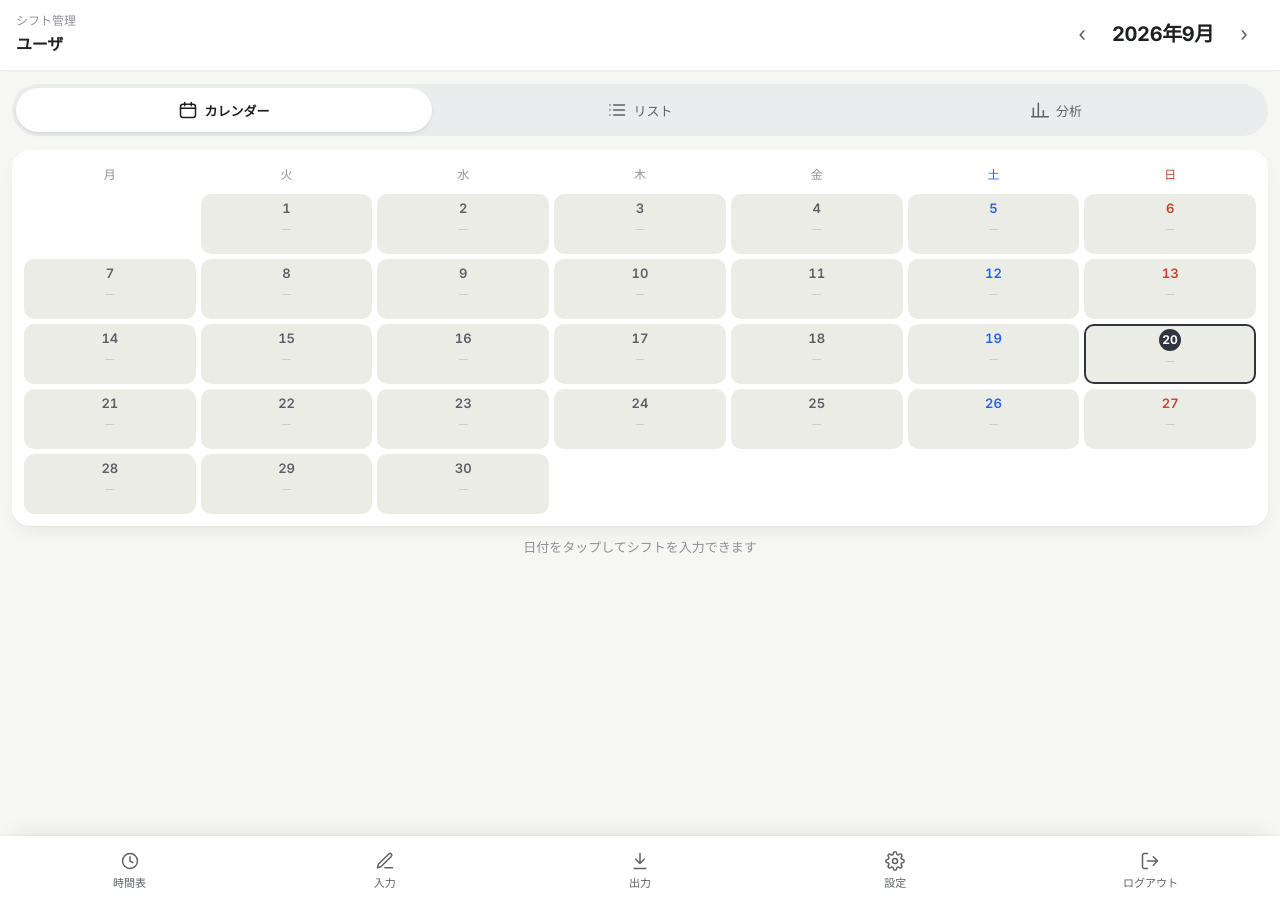
it: App コンポーネント › ポップアップ外をクリックすると閉じる
Click the text "1" at (286, 209), box [282,199,291,218]
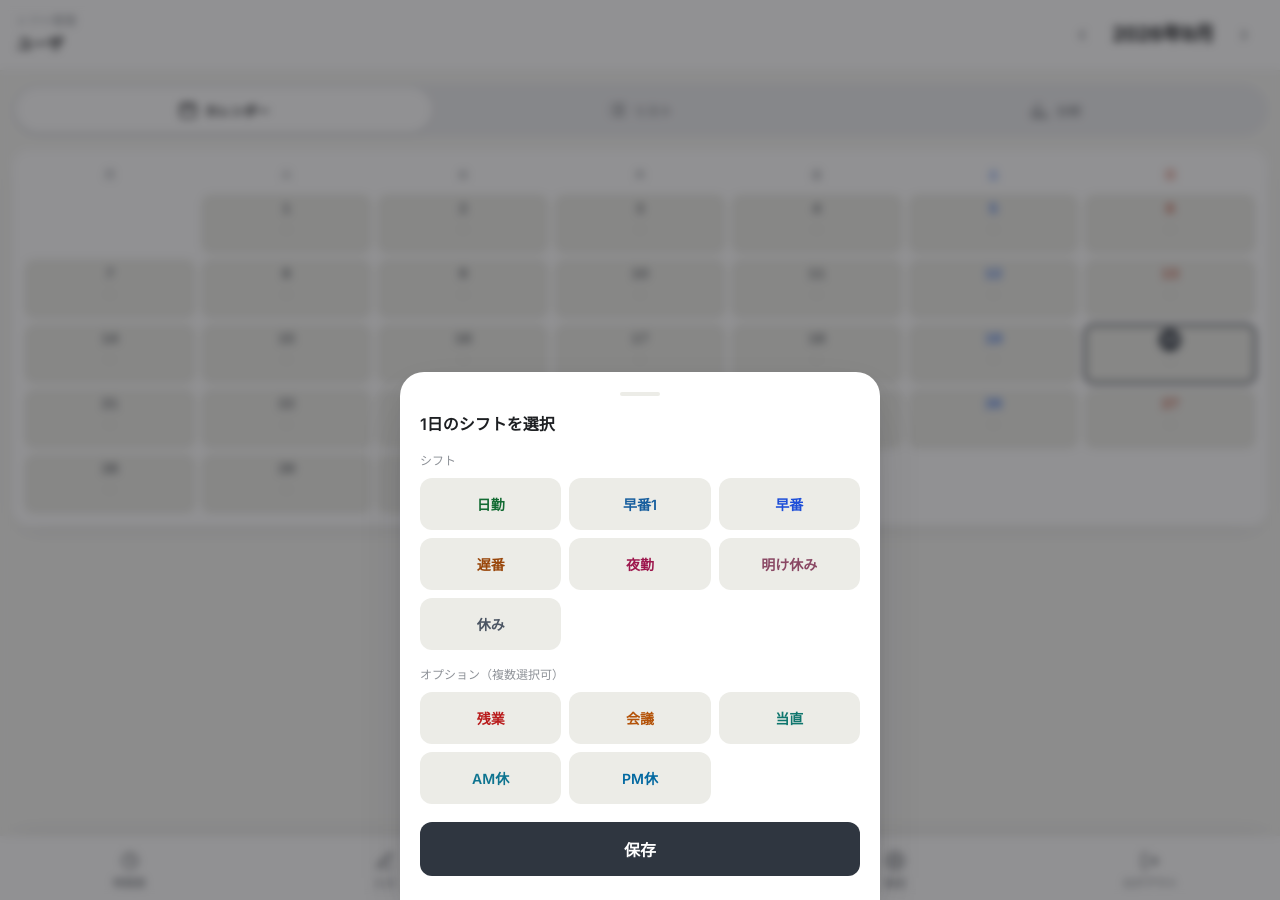
Now the text "1日のシフトを選択" is shown, box [420,414,555,434]
Click the element with test id "shift-picker-overlay" at (77, 450), box [0,0,1279,899]
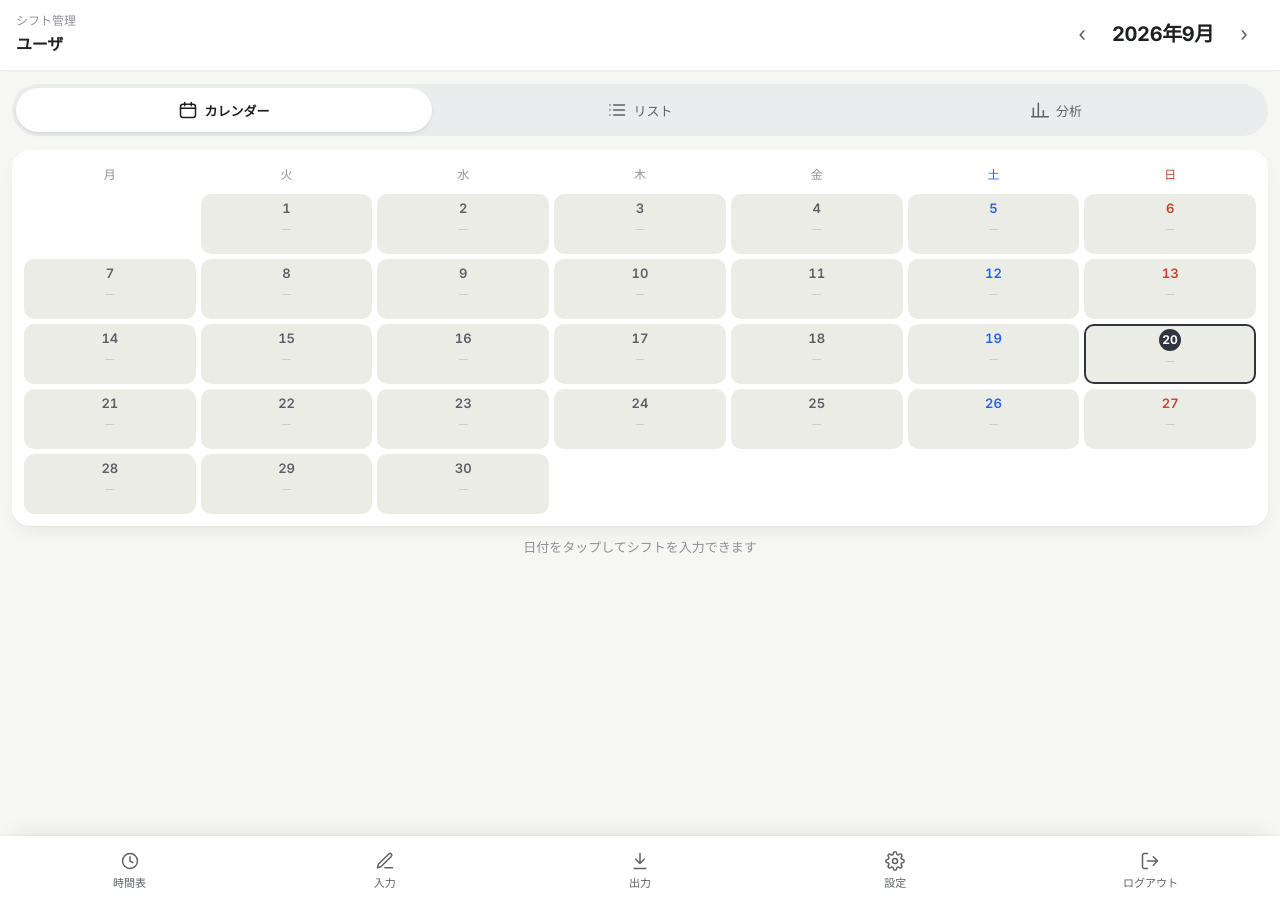
Now the text "日のシフトを選択" is gone
